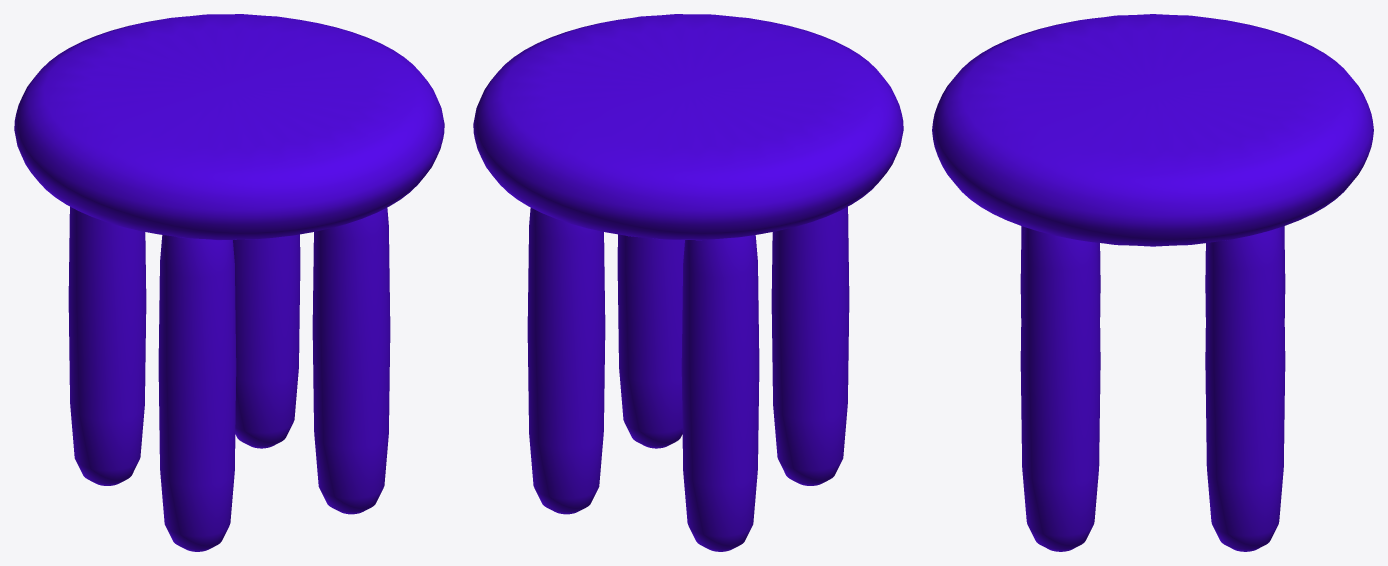
File: Stool2.fbx
3 views of the same model, side by side, from view 1: azimuth 30°, elevation 25°; view 2: azimuth 150°, elevation 25°; view 3: azimuth 270°, elevation 25° (orthographic). The views are drawn at different scales.
Parts seen in each view (by area): view 1: Stool2; view 2: Stool2; view 3: Stool2.
Boxes of the visible parts, x1=… form: Stool2: x1=14, y1=14, x2=444, y2=551; Stool2: x1=473, y1=14, x2=903, y2=551; Stool2: x1=932, y1=14, x2=1373, y2=551.
Bounding box in the file's own units: 91.63 × 96.96 × 91.63.
